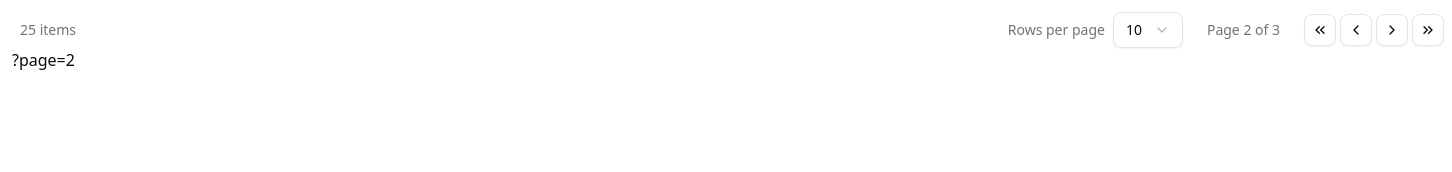
Test: TablePagination › navigates with the Next and First buttons
This screenshot has width=1452, height=172.
Click the button named "Next page": (1392, 30) [1376,14,1408,46]
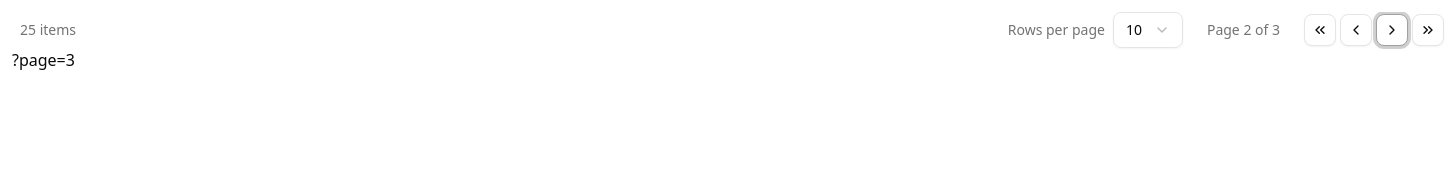
Now the text with test id "search" shows "page=3", box [12,49,75,71]
Click the button named "First page": (1320, 30) [1304,14,1336,46]
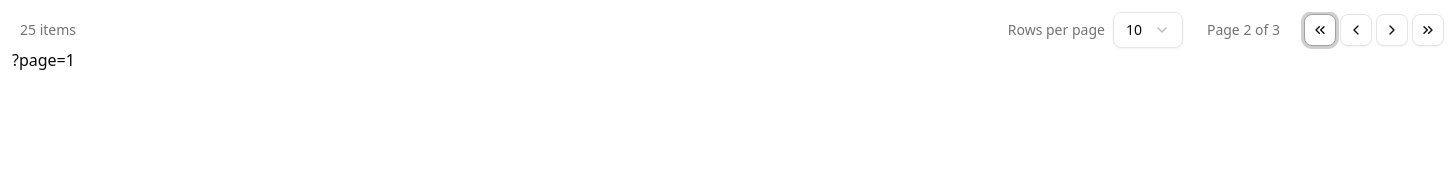
Now the text with test id "search" shows "page=1", box [12,49,75,71]
